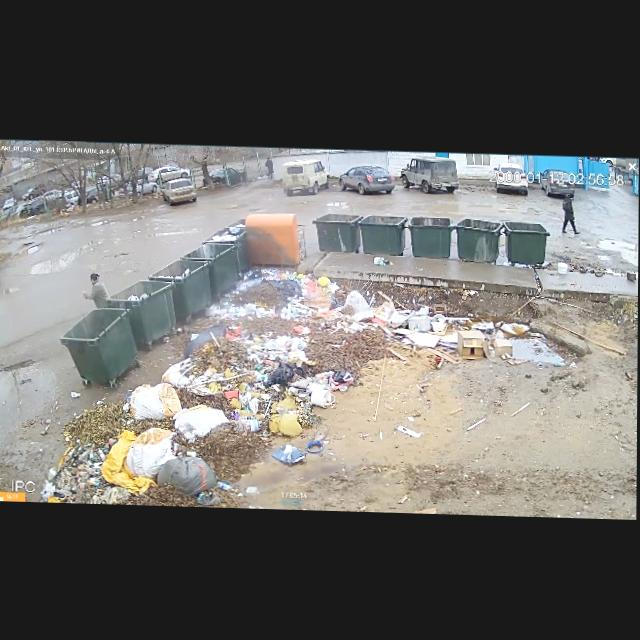Trash_Can_Empty: (60, 306, 138, 381), (454, 215, 506, 259), (503, 218, 551, 261), (313, 211, 363, 250)
Trash_Can_Full: (105, 278, 177, 342), (203, 227, 247, 269)
